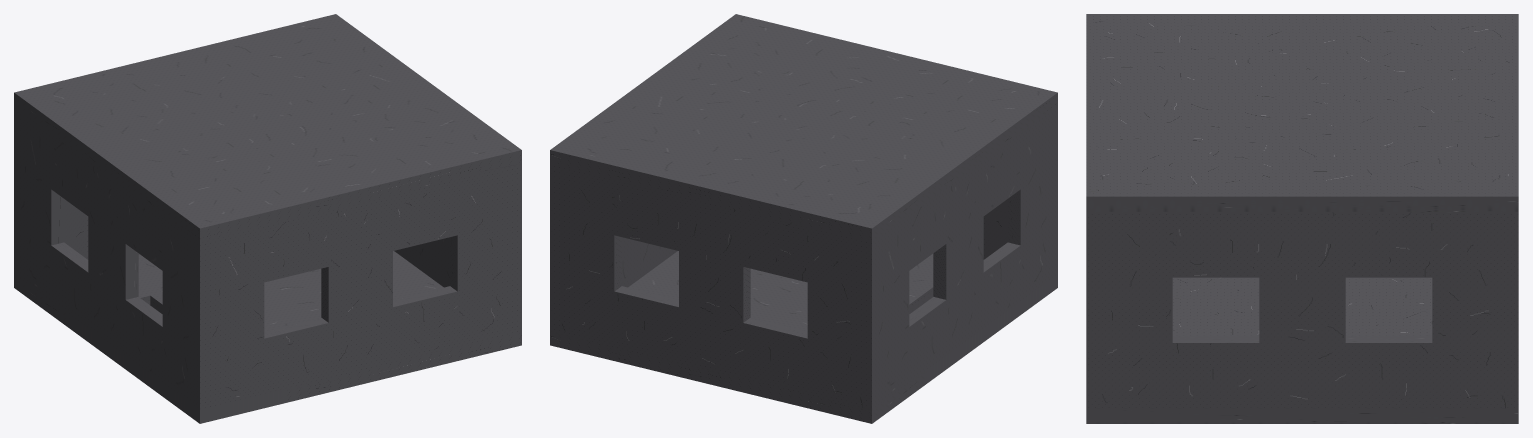
File: Top Floor Compound Concrete.fbx
3 views of the same model, side by side, from view 1: azimuth 30°, elevation 25°; view 2: azimuth 150°, elevation 25°; view 3: azimuth 270°, elevation 25° (orthographic). The views are drawn at different scales.
Visible parts, largest first — view 1: Top Floor; view 2: Top Floor; view 3: Top Floor.
Part boxes in pixels (x1,y1,x2,y2): Top Floor: (14, 14, 521, 423); Top Floor: (550, 14, 1057, 423); Top Floor: (1086, 14, 1518, 423).
Bounding box in the file's own units: 1000 × 580 × 1000.
Materials: 1 (1 with a texture image).
